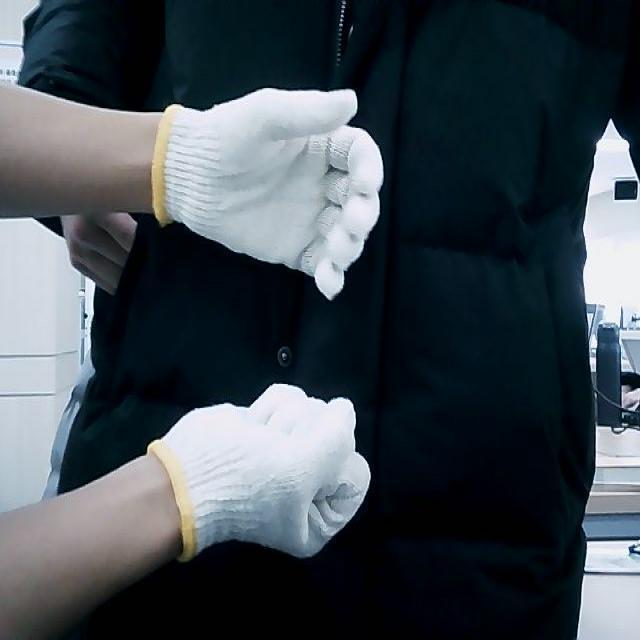gloves: (152, 86, 386, 302), (146, 381, 374, 563)
